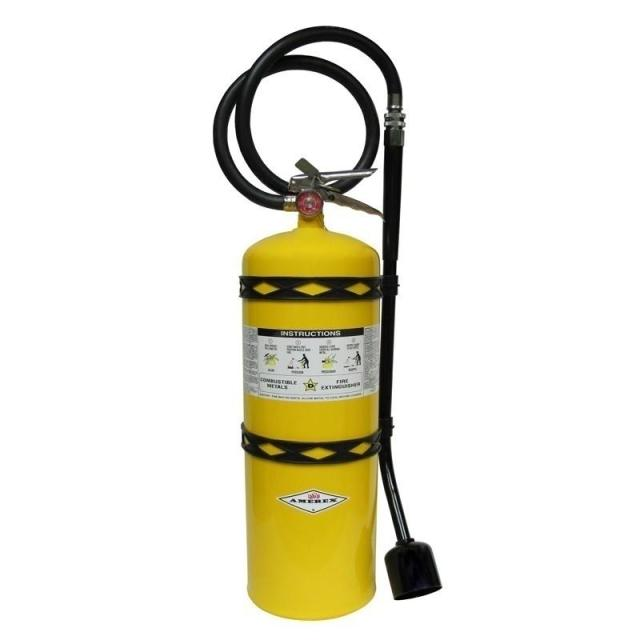fire_extinguisher: (205, 20, 450, 627)
